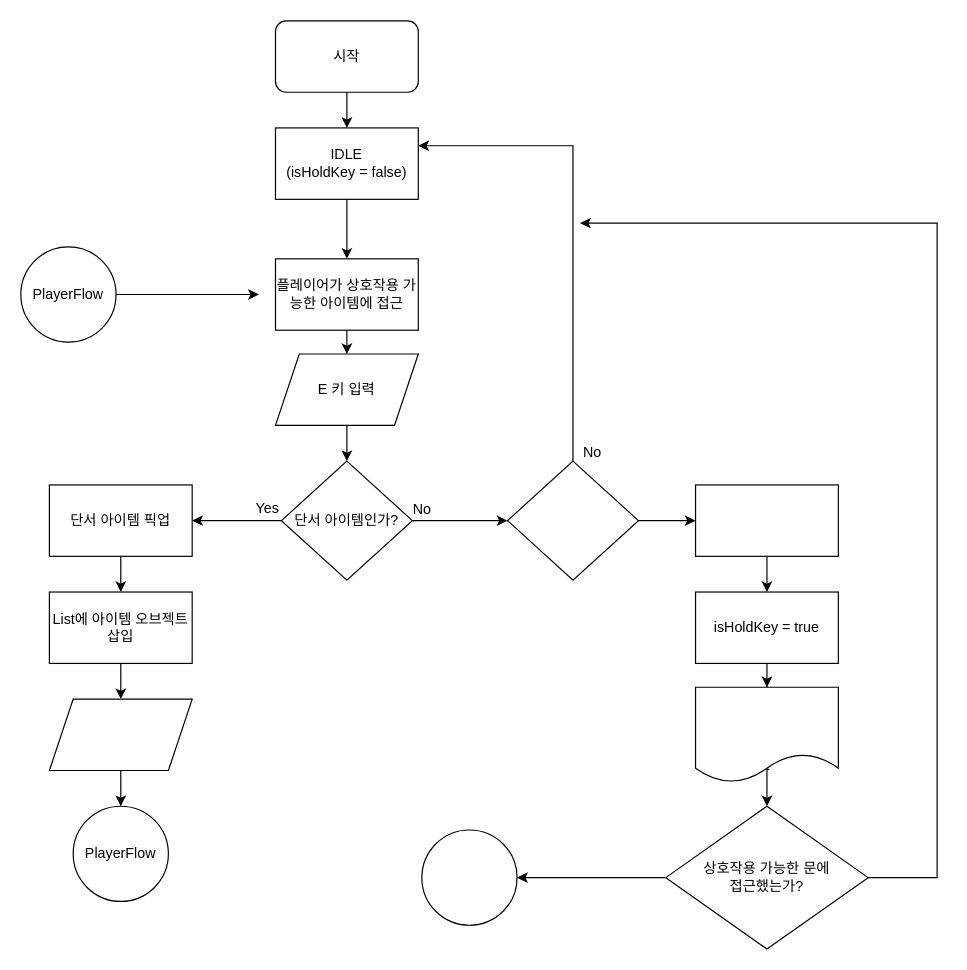
Some shapes in this 967 by 970 pixel diagram are drawn without their labels. The shapes that lost their labels are listed below. From the top down, each one's centre as x and y in pixels, then its label:
At point 572,520: "열쇠 아이템인가?".
At point 766,520: "열쇠 아이템 픽업".
At point 120,734: "J키 입력".
At point 766,734: "화면 우측 상단에 열쇠 모양 아이콘 생성".
At point 469,877: "UI Flow".
